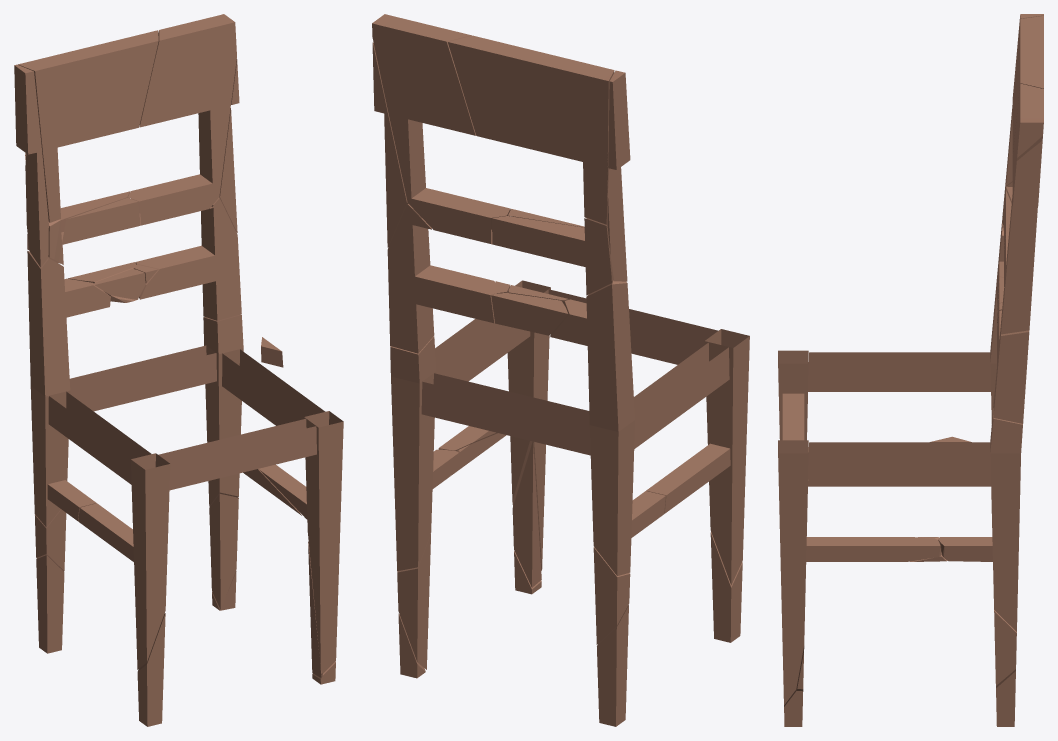
The model's file is stuhl_kaputt.glb.
3 renders of one model, left to right at view 1: azimuth 30°, elevation 25°; view 2: azimuth 150°, elevation 25°; view 3: azimuth 270°, elevation 25°, orthographic. The views are drawn at different scales.
Parts seen in each view (by area): view 1: Cube_cell.029, Cube_cell.006, Cube_cell.015, Cube_cell, Cube_cell.020, Cube_cell.004, Cube_cell.013, Cube_cell.016, Cube_cell.034, Cube_cell.007, Cube_cell.017, Cube_cell.018 (+17 smaller); view 2: Cube_cell.006, Cube_cell.029, Cube_cell.015, Cube_cell.034, Cube_cell.004, Cube_cell.020, Cube_cell.013, Cube_cell.035, Cube_cell.027, Cube_cell.017, Cube_cell, Cube_cell.007 (+17 smaller); view 3: Cube_cell.028, Cube_cell.017, Cube_cell, Cube_cell.034, Cube_cell.009, Cube_cell.022, Cube_cell.004, Cube_cell.006, Cube_cell.029, Cube_cell.020, Cube_cell.011, Cube_cell.031 (+6 smaller).
Boxes of the visible parts, x1,y1,x2,y2 form: Cube_cell.029: (128, 14, 236, 225); Cube_cell.006: (18, 30, 158, 222); Cube_cell.015: (27, 251, 110, 527); Cube_cell: (304, 411, 343, 673); Cube_cell.020: (130, 453, 170, 669); Cube_cell.004: (135, 198, 241, 320); Cube_cell.013: (69, 345, 216, 410); Cube_cell.016: (158, 418, 316, 489); Cube_cell.034: (203, 314, 243, 506); Cube_cell.007: (14, 64, 48, 267); Cube_cell.017: (48, 391, 151, 484); Cube_cell.018: (163, 423, 316, 489); Cube_cell.006: (448, 35, 614, 226); Cube_cell.029: (372, 14, 510, 244); Cube_cell.015: (550, 279, 634, 575); Cube_cell.034: (390, 336, 436, 571); Cube_cell.004: (387, 204, 496, 353); Cube_cell.020: (704, 329, 749, 584); Cube_cell.013: (421, 373, 590, 455); Cube_cell.035: (421, 373, 590, 455); Cube_cell.027: (492, 216, 613, 295); Cube_cell.017: (634, 342, 729, 448); Cube_cell: (507, 280, 550, 570); Cube_cell.007: (607, 70, 630, 281); Cube_cell.028: (808, 442, 991, 486); Cube_cell.017: (808, 352, 990, 391); Cube_cell: (778, 440, 808, 706); Cube_cell.034: (990, 408, 1022, 631); Cube_cell.009: (1001, 141, 1042, 334); Cube_cell.022: (806, 537, 941, 561); Cube_cell.004: (993, 286, 1029, 423); Cube_cell.006: (1006, 16, 1043, 185); Cube_cell.029: (1004, 83, 1043, 287); Cube_cell.020: (778, 350, 808, 440); Cube_cell.011: (994, 610, 1016, 687); Cube_cell.031: (938, 537, 992, 561).
Bounding box in the file's own units: 0.4995 × 1.28 × 0.5048.
